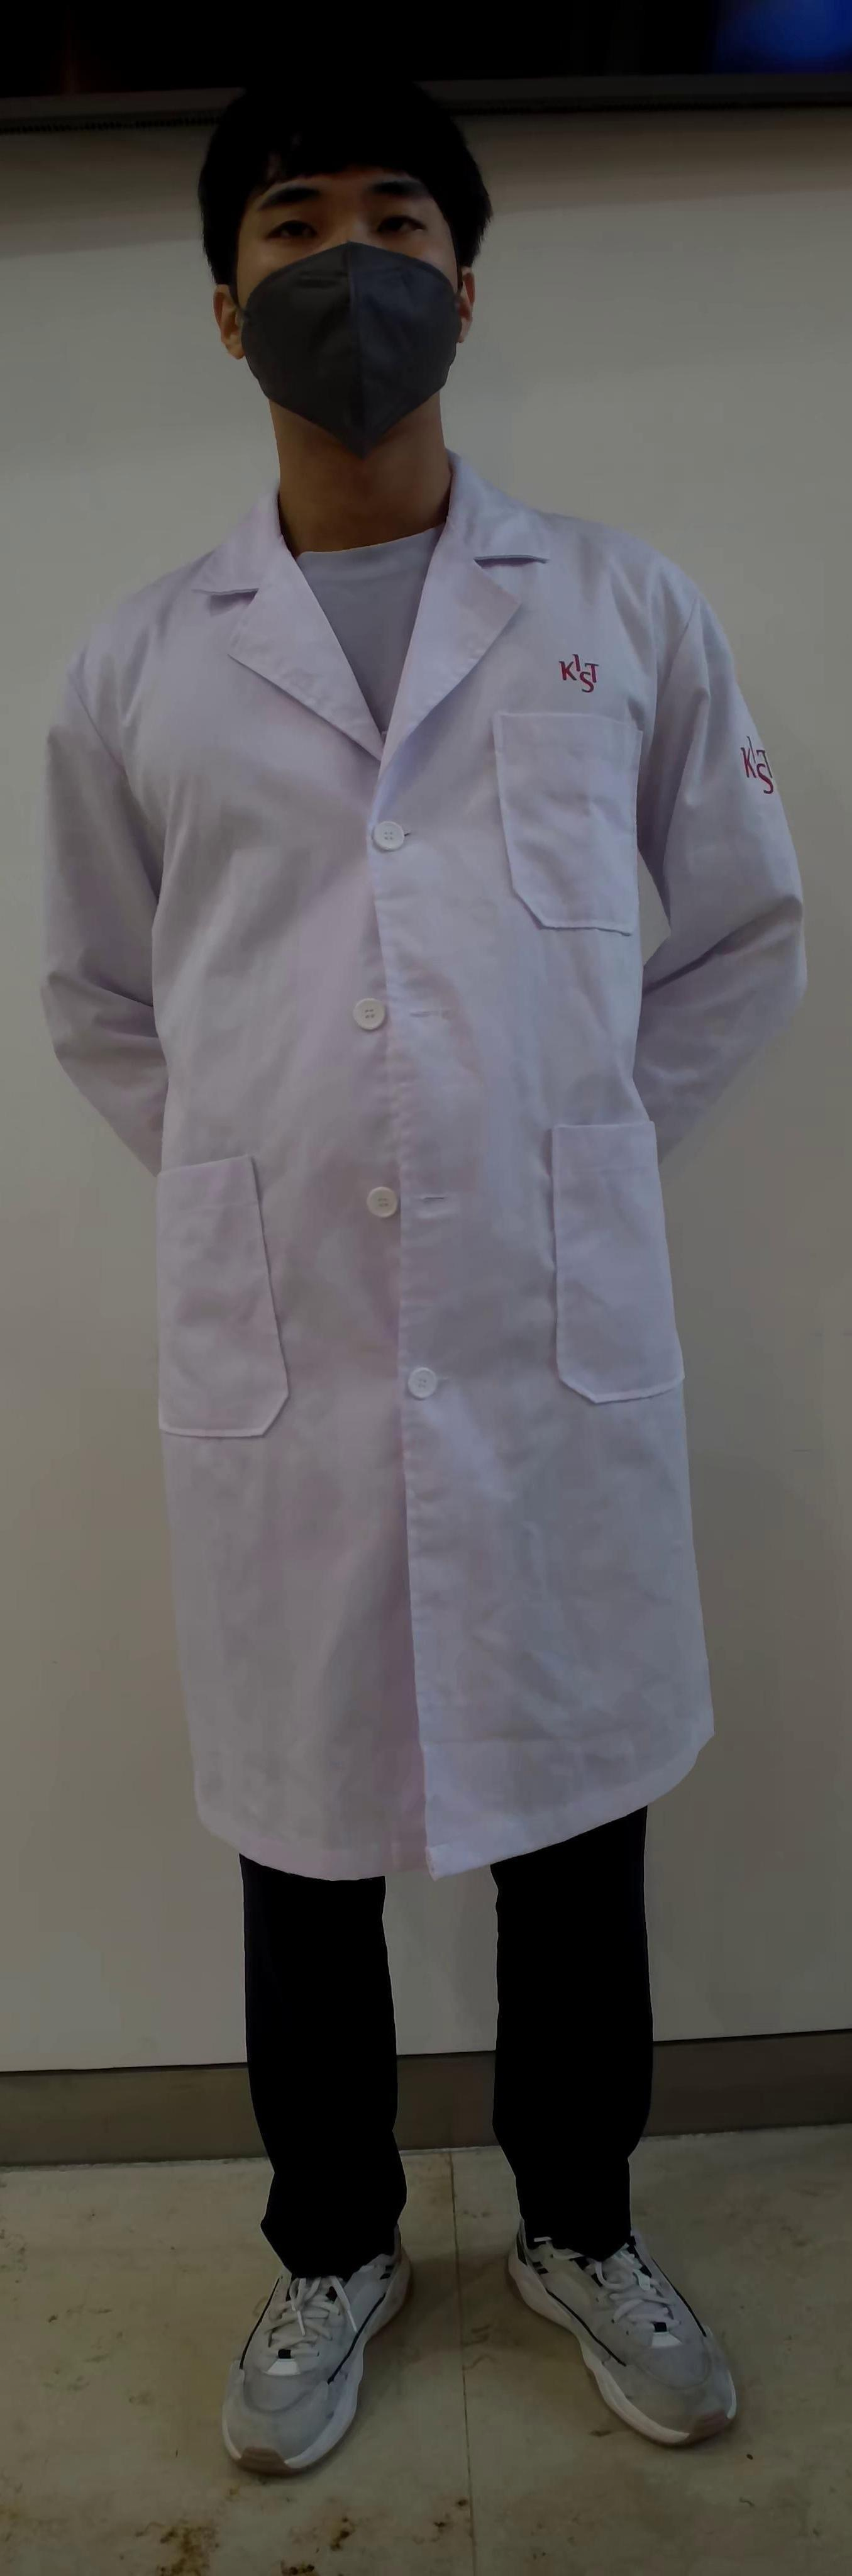lab_coat: (57, 555, 808, 1819)
